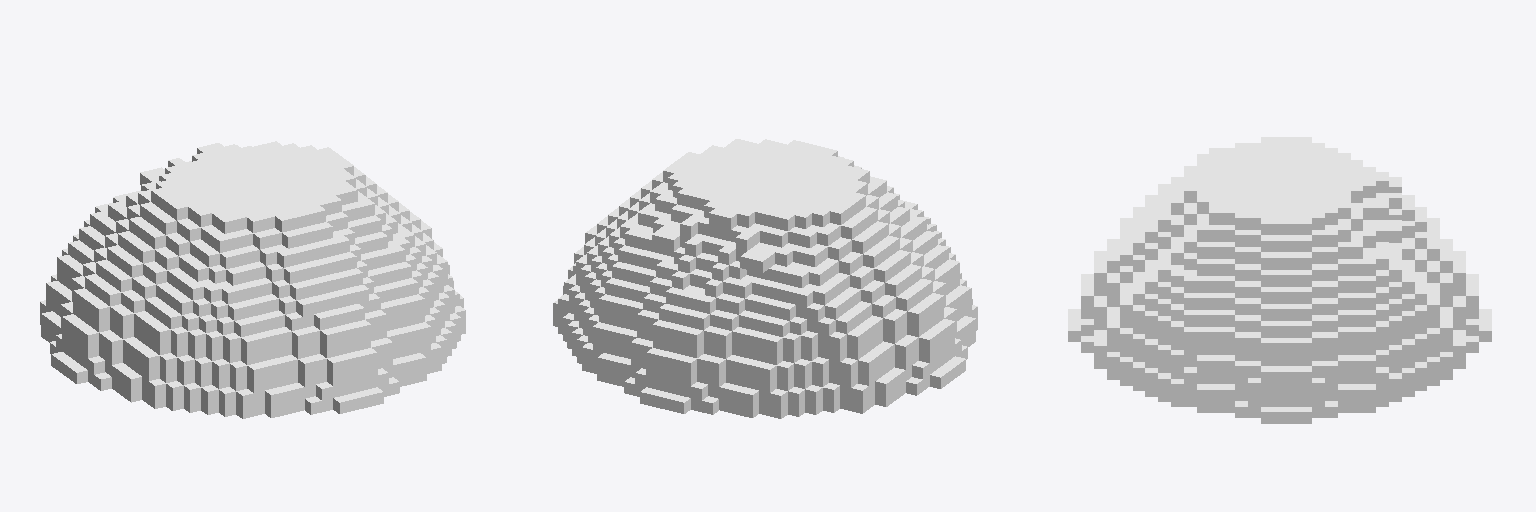
The model's file is alice__skirt.obj.
3 renders of one model, left to right at view 1: azimuth 30°, elevation 25°; view 2: azimuth 150°, elevation 25°; view 3: azimuth 270°, elevation 25°, orthographic.
Visible parts, largest first — view 1: object 1; view 2: object 1; view 3: object 1.
Boxes of the visible parts, <box> form: object 1: <box>40,141,465,418</box>; object 1: <box>553,139,977,418</box>; object 1: <box>1068,137,1491,423</box>.
Size of the model in its own units: 3.4 by 1.3 by 3.3.